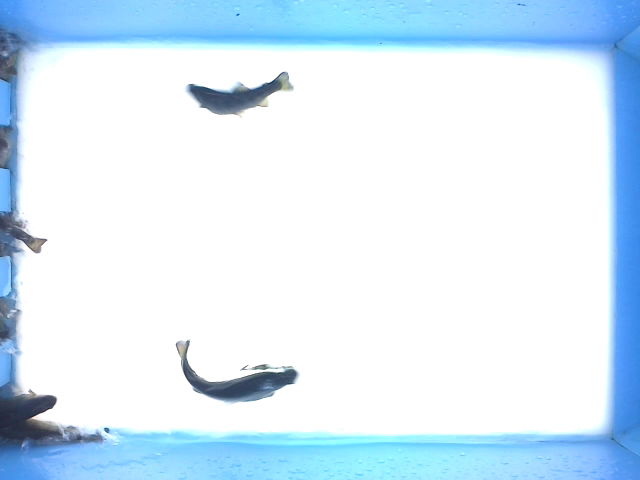fish: (173, 335, 301, 407), (182, 69, 297, 120)
